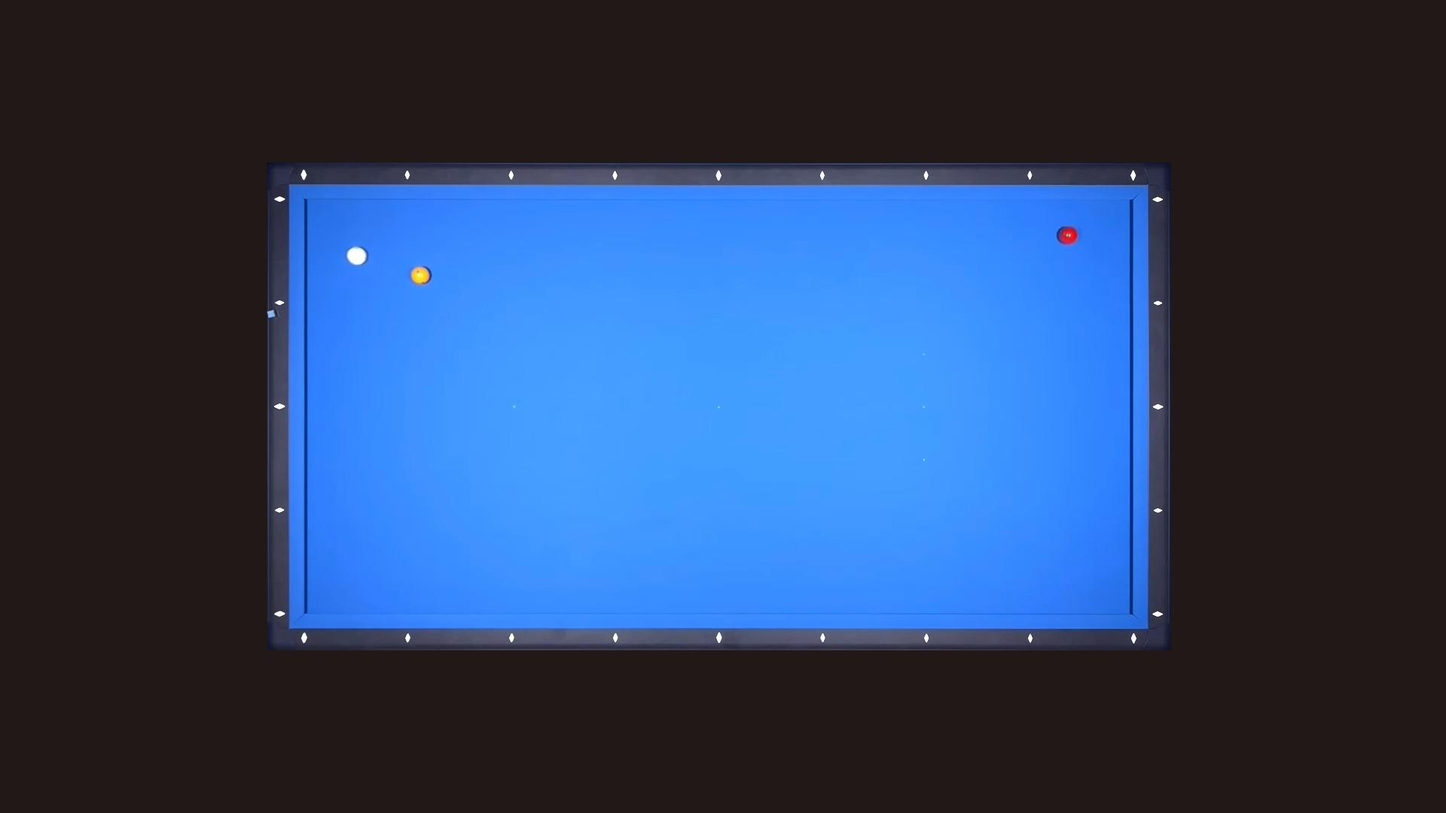Red: (1061, 230, 1087, 249), (1055, 227, 1080, 245)
White: (343, 245, 368, 266)
Yellow: (407, 266, 433, 286)
